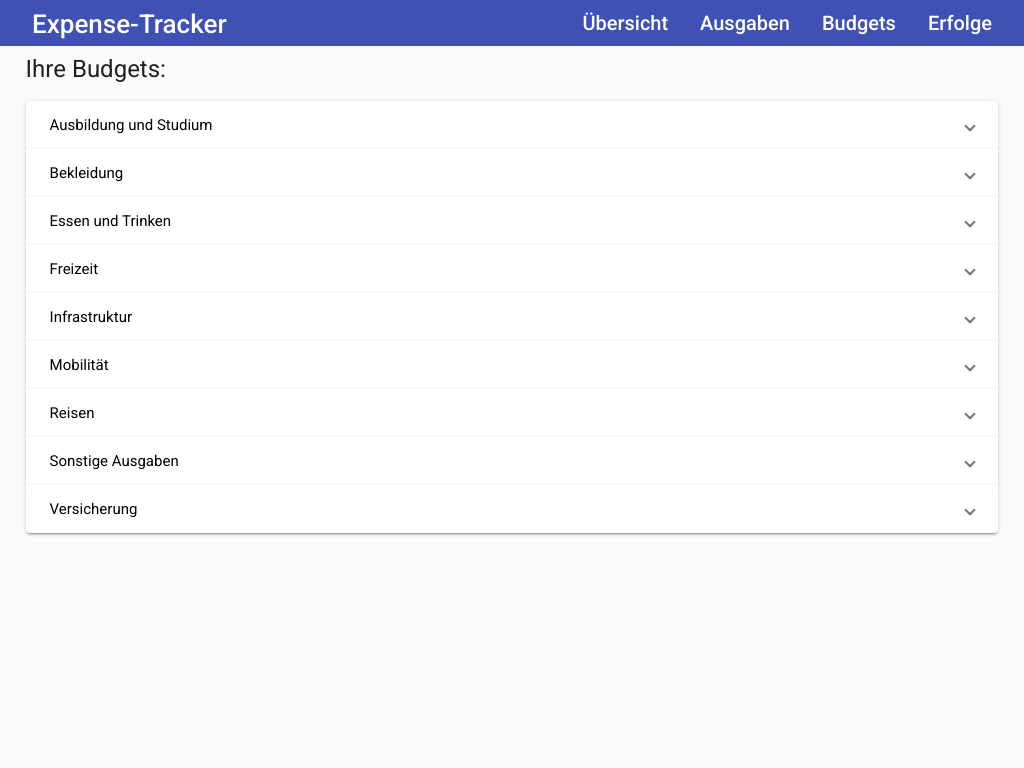
Test: Budgets E2E Test › should not update a budget with an empty betrag
The width and height of the screenshot is (1024, 768).
# open budget
Step 1. Click the button "Ausbildung und Studium" → (131, 125), box x1=50 y1=115 x2=975 y2=135
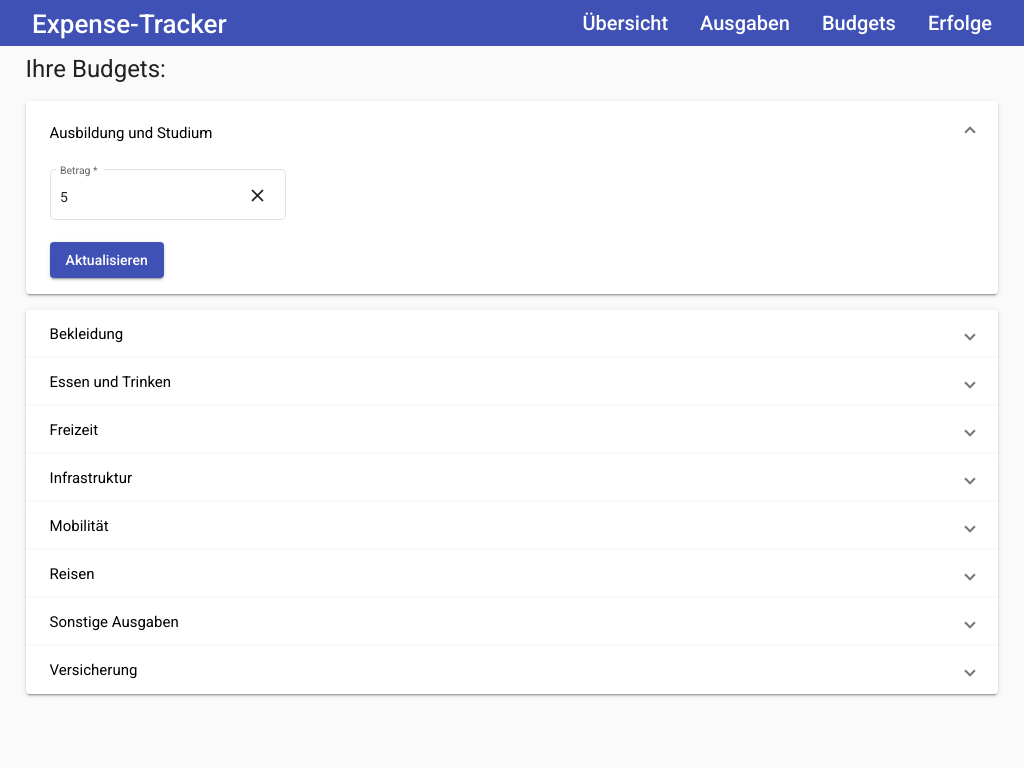
# clear betrag
Step 2. Clear the number field labelled "Betrag *" → (150, 198), box x1=60 y1=190 x2=240 y2=206
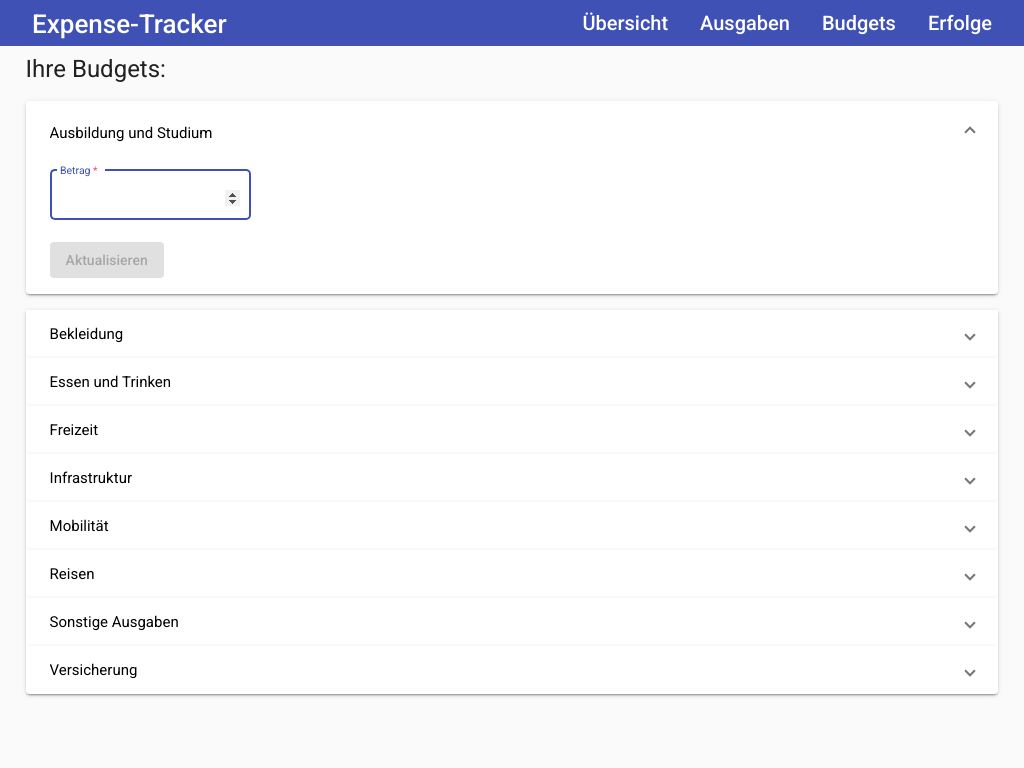
Now the submit button is disabled, box x1=50 y1=242 x2=164 y2=278
